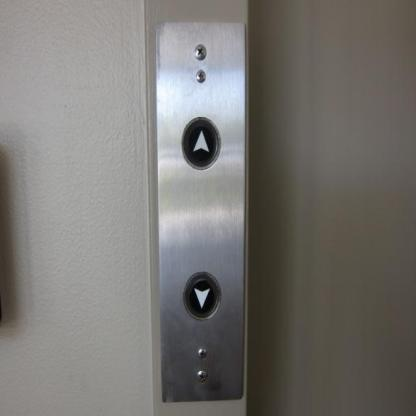down: (181, 268, 221, 322)
up: (179, 113, 221, 172)
